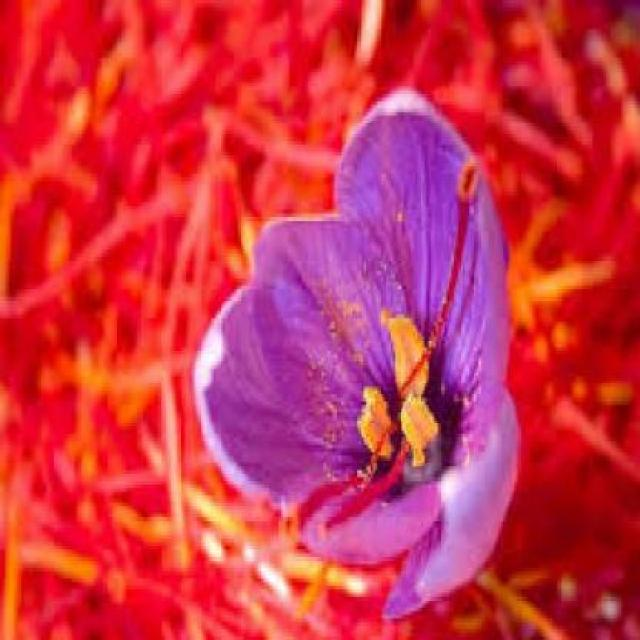saffron open: (195, 91, 518, 618)
